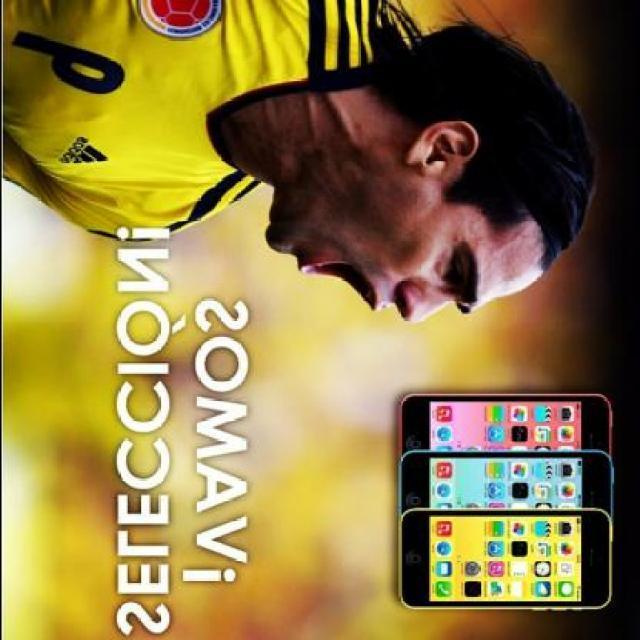phone: (393, 399, 611, 611)
